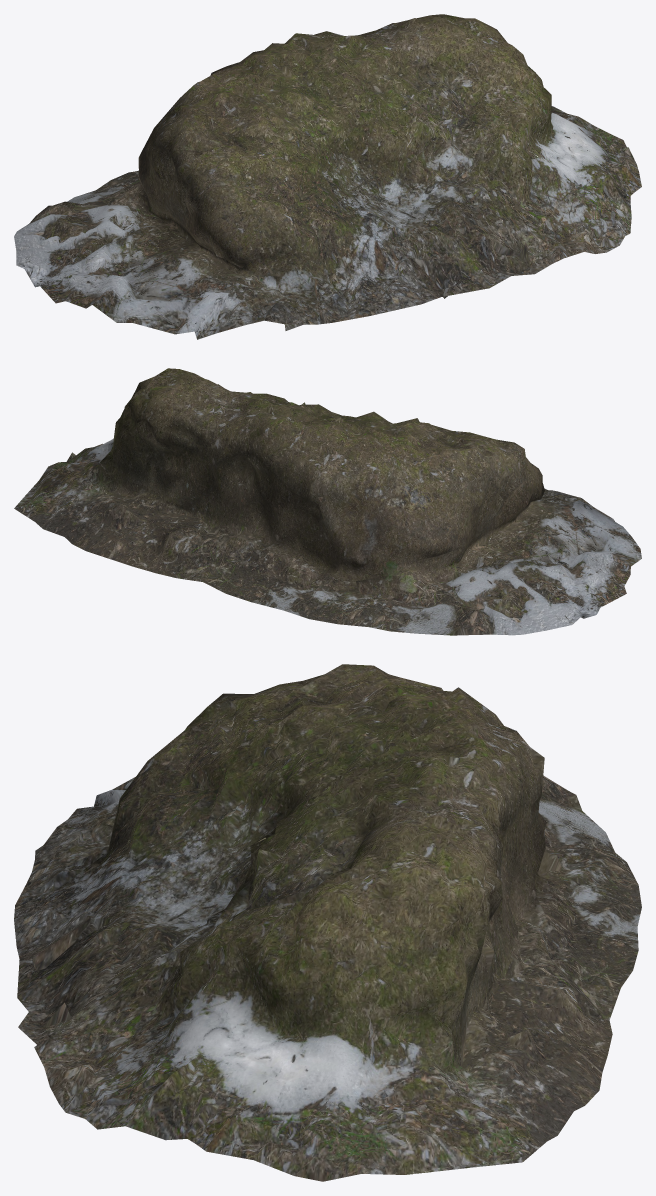
Rendered from PX_Mossy_Stone_01_LOD4.fbx.
The picture shows the model from 3 angles, top to bottom: view 1: azimuth 30°, elevation 25°; view 2: azimuth 150°, elevation 25°; view 3: azimuth 270°, elevation 25°; orthographic projection. The views are drawn at different scales.
Visible parts, largest first — view 1: PX_Mossy_Stone_01_LOD4; view 2: PX_Mossy_Stone_01_LOD4; view 3: PX_Mossy_Stone_01_LOD4.
Part boxes in pixels (x1,y1,x2,y2): PX_Mossy_Stone_01_LOD4: [14, 14, 641, 339]; PX_Mossy_Stone_01_LOD4: [14, 368, 641, 635]; PX_Mossy_Stone_01_LOD4: [14, 664, 641, 1181].
Bounding box in the file's own units: 241 × 62.82 × 148.
